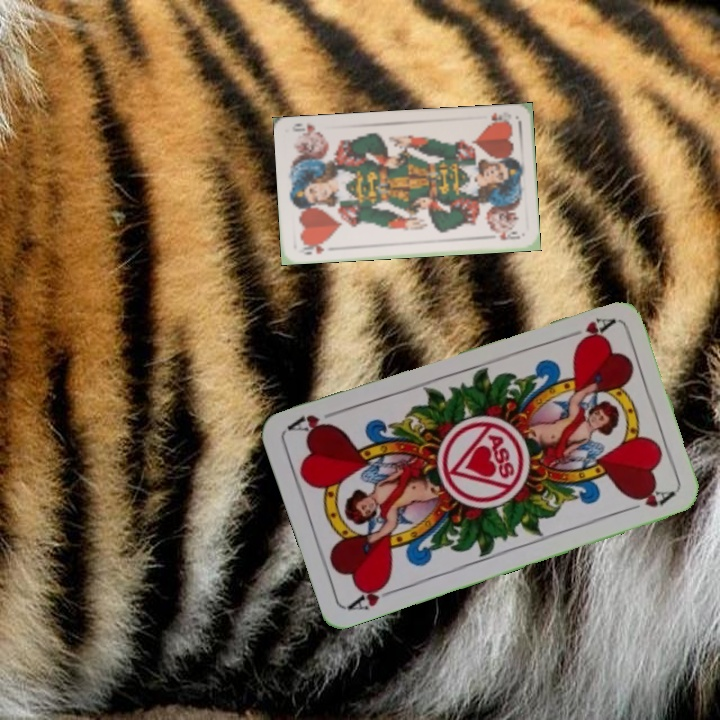HA: (345, 577, 402, 613), (559, 313, 617, 343)
HO: (483, 108, 514, 128), (299, 238, 327, 258)
